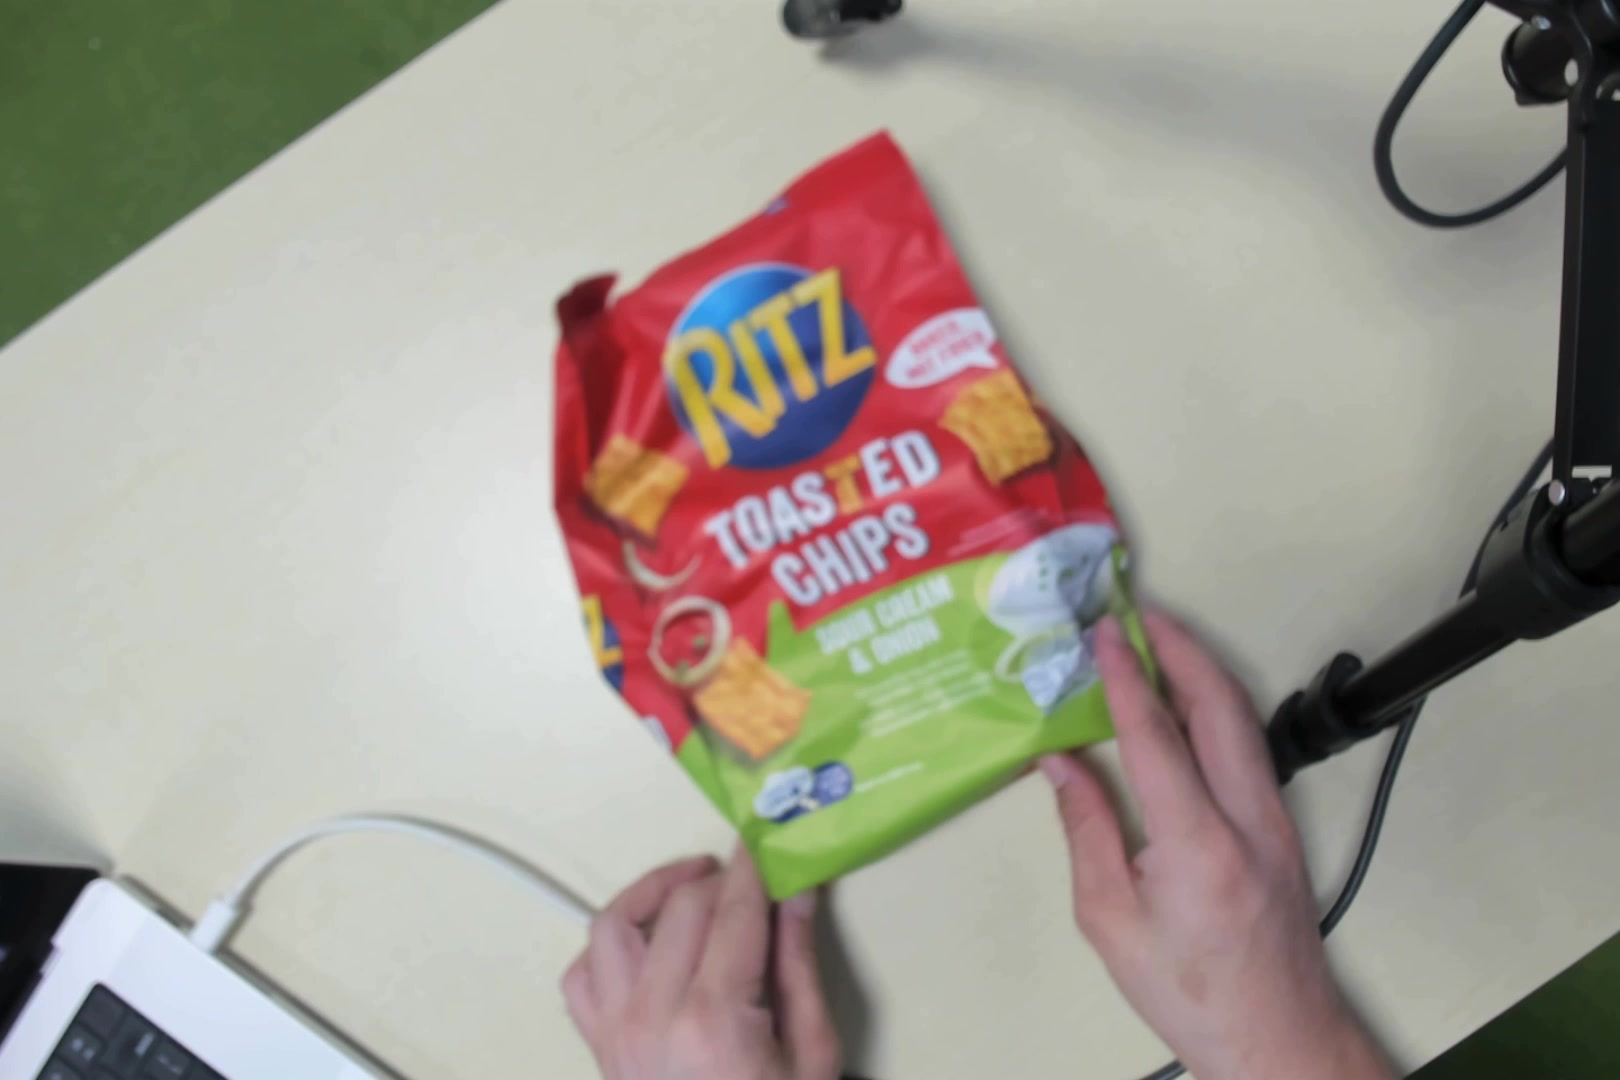BiscuitsCrackersCookies_200-299g_NonHalal_NonHealthy: (593, 178, 1086, 845)
